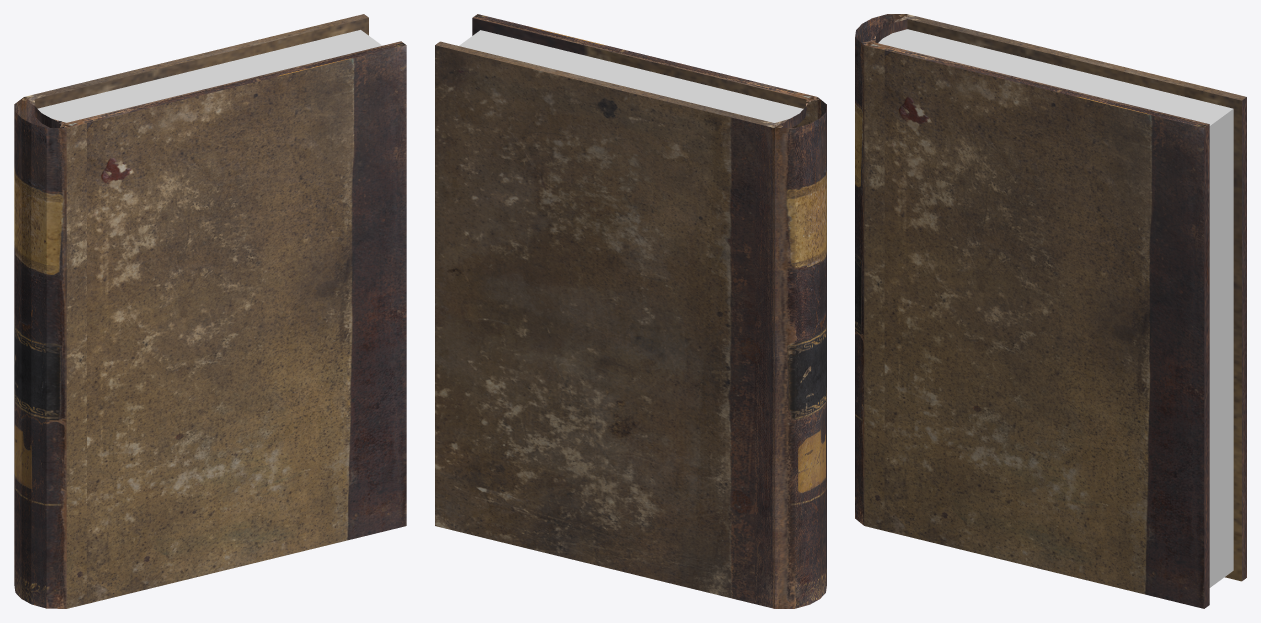
Rendered from book1.fbx.
3 views of the same model, side by side, from view 1: azimuth 30°, elevation 25°; view 2: azimuth 150°, elevation 25°; view 3: azimuth 330°, elevation 25° (orthographic).
Visible parts, largest first — view 1: Cube.020; view 2: Cube.020; view 3: Cube.020.
Part boxes in pixels (box(x1,y1,x2,y2)): Cube.020: box(14, 14, 406, 608); Cube.020: box(435, 14, 826, 608); Cube.020: box(855, 14, 1246, 608).
Size of the model in its own units: 873 by 691 by 140.
